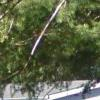Tree: (21, 4, 100, 78)
